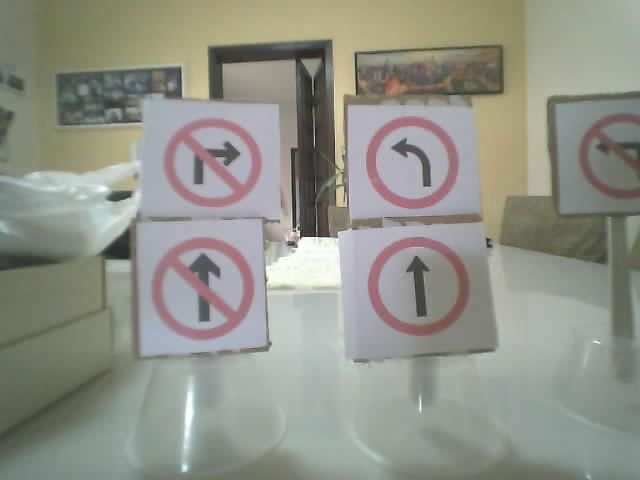R-25a_esquerda: (363, 116, 458, 209)
R-26_frente: (366, 236, 469, 334)
R-3_sentido-proibido: (150, 236, 256, 341)
R-4a_proibido-esquerda: (579, 113, 639, 198)
R-4b_proibido-direita: (163, 117, 262, 209)
